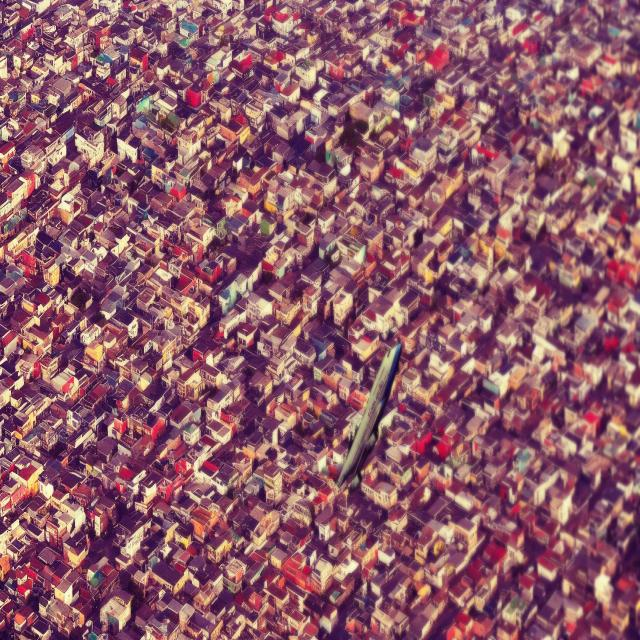airplane: (331, 341, 402, 491)
